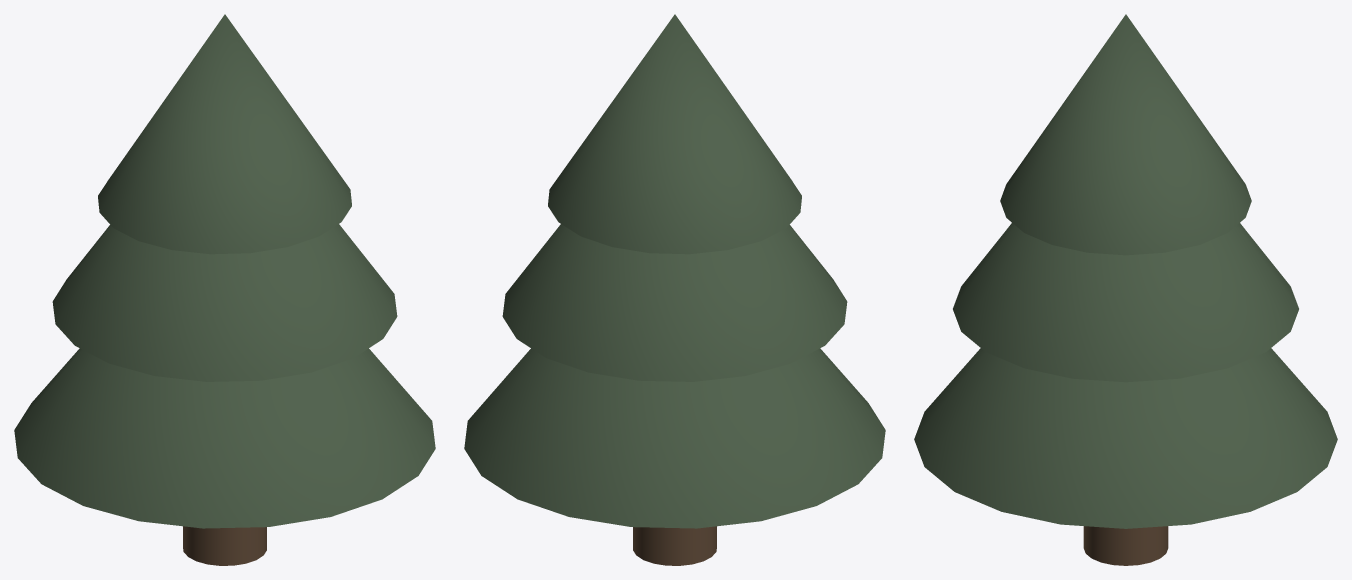
Rendered from Tree.fbx.
3 renders of one model, left to right at view 1: azimuth 30°, elevation 25°; view 2: azimuth 150°, elevation 25°; view 3: azimuth 270°, elevation 25°, orthographic.
Parts seen in each view (by area): view 1: pCone1, pCone2, pCone3, pCylinder1; view 2: pCone1, pCone2, pCone3, pCylinder1; view 3: pCone1, pCone2, pCone3, pCylinder1.
Boxes of the visible parts, x1,y1,x2,y2 form: pCone1: (14,348,435,528); pCone2: (52,224,397,381); pCone3: (98,14,351,254); pCylinder1: (183,526,266,565); pCone1: (464,348,885,528); pCone2: (502,224,847,381); pCone3: (548,14,801,254); pCylinder1: (633,526,716,565); pCone1: (914,348,1337,528); pCone2: (953,223,1298,382); pCone3: (1000,14,1251,255); pCylinder1: (1083,526,1168,565).
Bounding box in the file's own units: 1.08 × 1.51 × 1.08.
